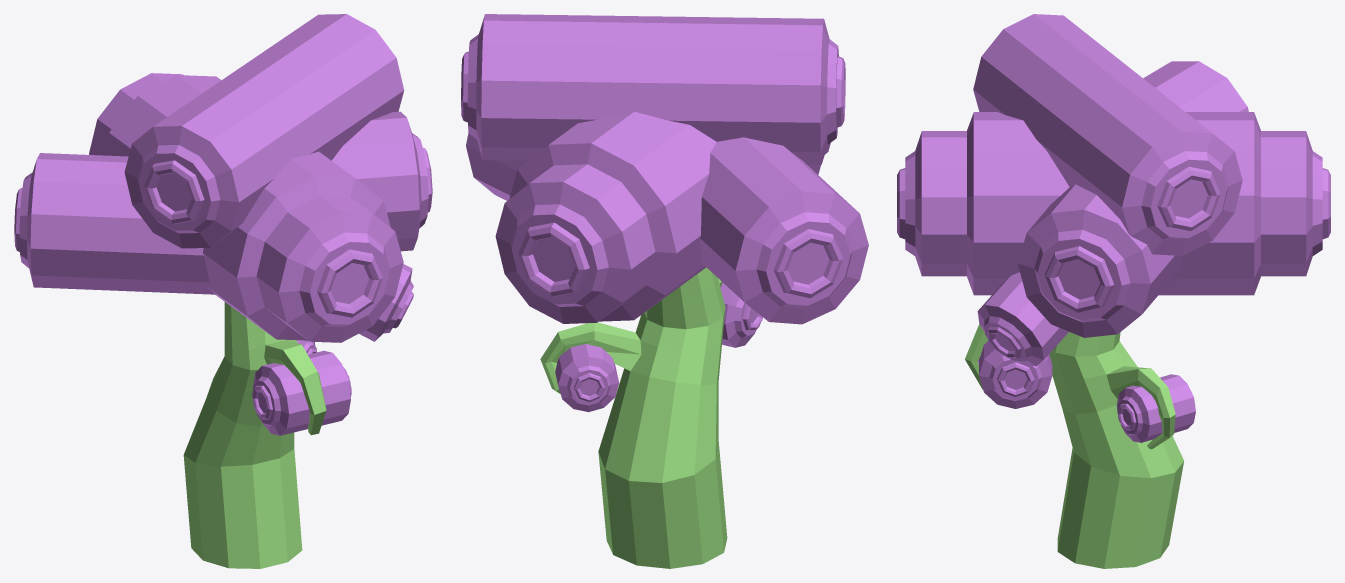
Rendered from OddItem3.fbx.
3 views of the same model, side by side, from view 1: azimuth 30°, elevation 25°; view 2: azimuth 150°, elevation 25°; view 3: azimuth 270°, elevation 25° (orthographic). The views are drawn at different scales.
Parts seen in each view (by area): view 1: Tree; view 2: Tree; view 3: Tree.
Part boxes in pixels (x1,y1,x2,y2): Tree: (14,14,432,568); Tree: (461,14,868,568); Tree: (897,14,1330,568).
Size of the model in its own units: 270 by 328 by 268.
